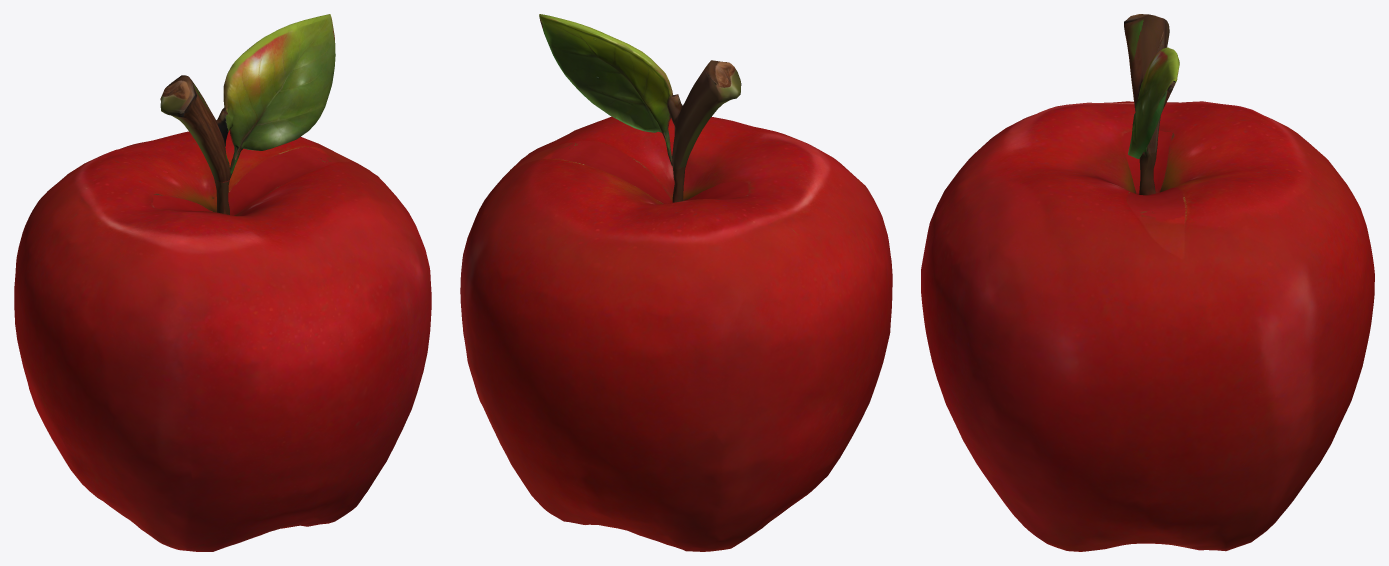
The model's file is apple.glb.
The picture shows the model from 3 angles, left to right: view 1: azimuth 30°, elevation 25°; view 2: azimuth 150°, elevation 25°; view 3: azimuth 270°, elevation 25°; orthographic projection. The views are drawn at different scales.
Parts seen in each view (by area): view 1: Mesh_0; view 2: Mesh_0; view 3: Mesh_0.
Boxes of the visible parts, x1=… form: Mesh_0: x1=14, y1=14, x2=431, y2=551; Mesh_0: x1=460, y1=14, x2=892, y2=551; Mesh_0: x1=921, y1=14, x2=1374, y2=551.
Bounding box in the file's own units: 1.65 × 2 × 1.66.
Materials: 1 (1 with a texture image).
